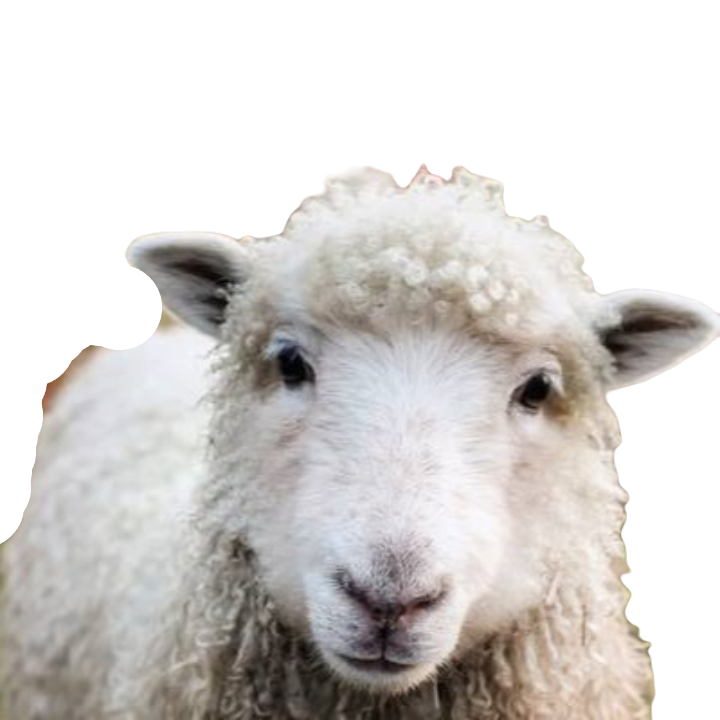Sheep: (0, 158, 720, 719)
